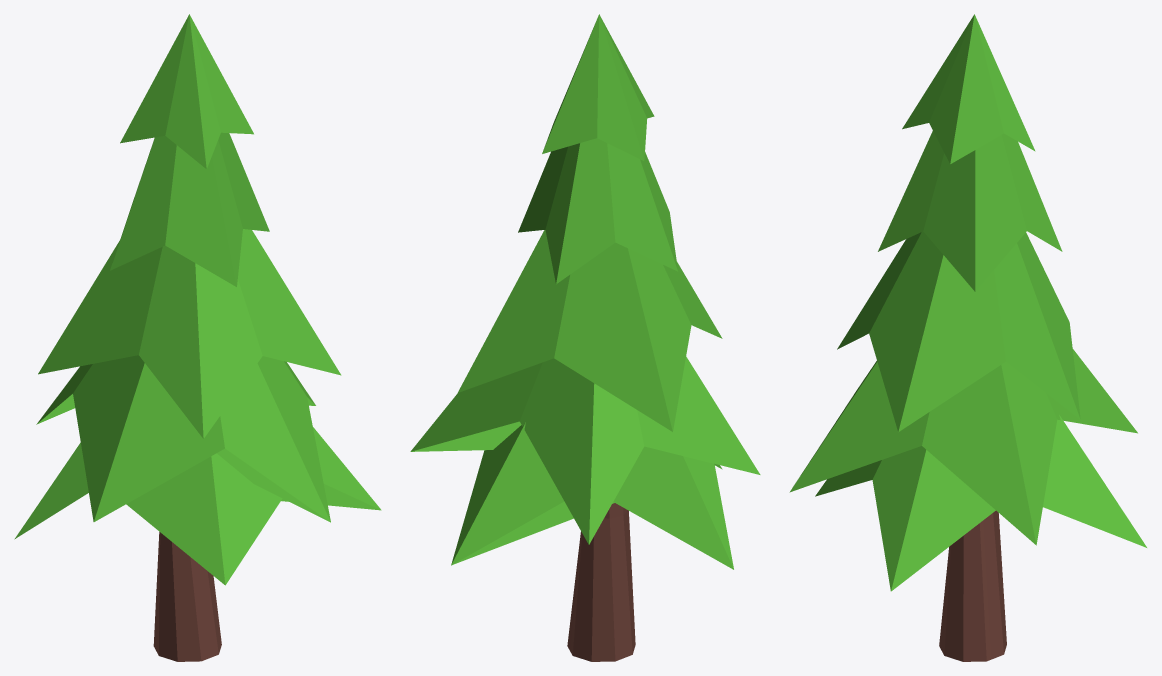
Rendered from Arvore3.fbx.
The picture shows the model from 3 angles, left to right: view 1: azimuth 30°, elevation 25°; view 2: azimuth 150°, elevation 25°; view 3: azimuth 270°, elevation 25°; orthographic projection.
Parts seen in each view (by area): view 1: Grid; view 2: Grid; view 3: Grid.
Part boxes in pixels (box(x1,y1,x2,y2)): Grid: box(14, 14, 381, 661); Grid: box(410, 14, 760, 661); Grid: box(789, 14, 1146, 661).
Bounding box in the file's own units: 251 × 486 × 249.
1 material, 1 textured.
